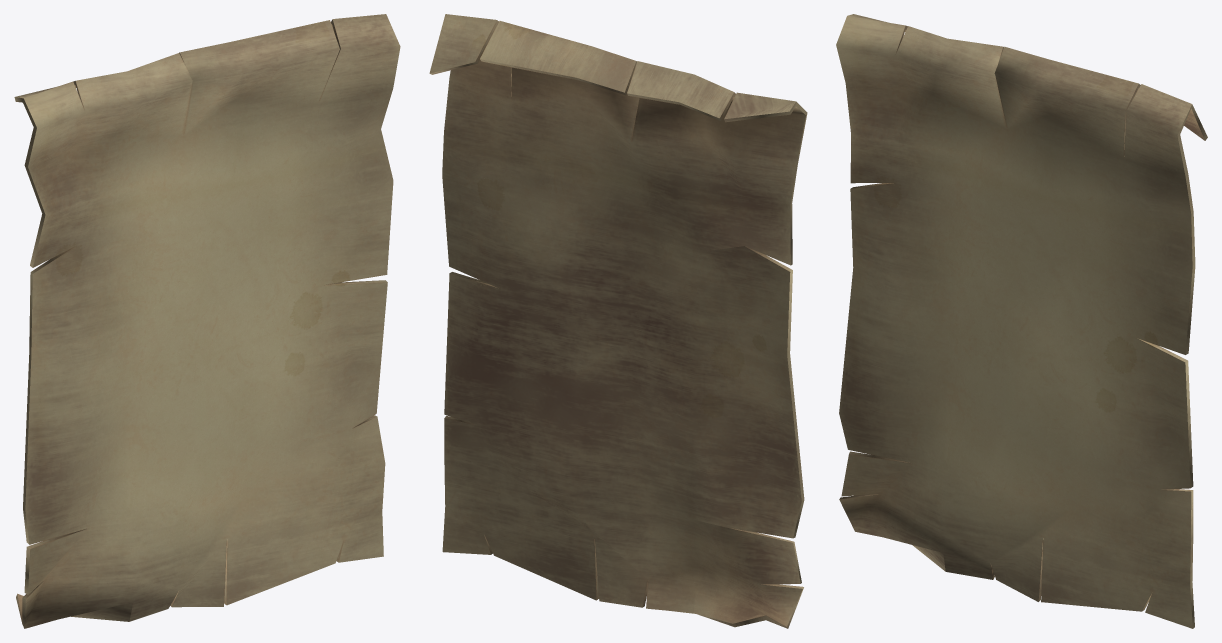
File: Parchment_v2.fbx
3 renders of one model, left to right at view 1: azimuth 30°, elevation 25°; view 2: azimuth 150°, elevation 25°; view 3: azimuth 330°, elevation 25°, orthographic. The views are drawn at different scales.
Visible parts, largest first — view 1: Parchment2(Rolled)_LP; view 2: Parchment2(Rolled)_LP; view 3: Parchment2(Rolled)_LP.
Part boxes in pixels (x1,y1,x2,y2): Parchment2(Rolled)_LP: (14,14,400,628); Parchment2(Rolled)_LP: (429,14,807,628); Parchment2(Rolled)_LP: (836,14,1207,628).
Bounding box in the file's own units: 3.03 × 16.85 × 24.63.
1 material, 1 textured.
